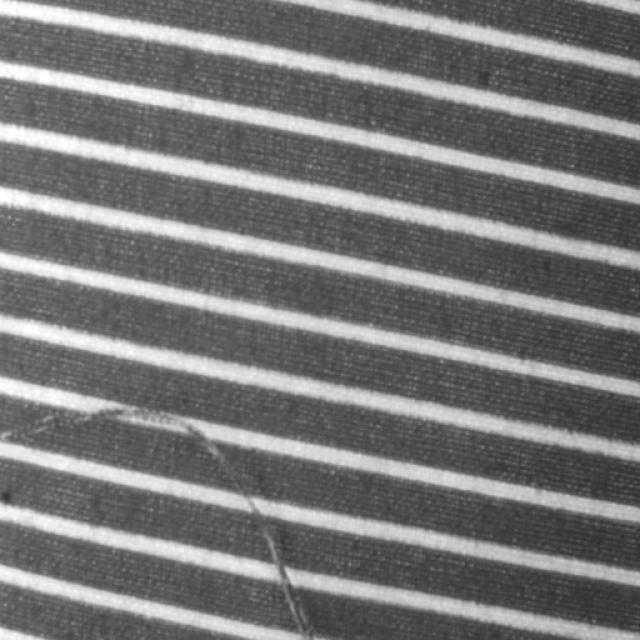Foreign-Body-Defect: (3, 393, 320, 636)
